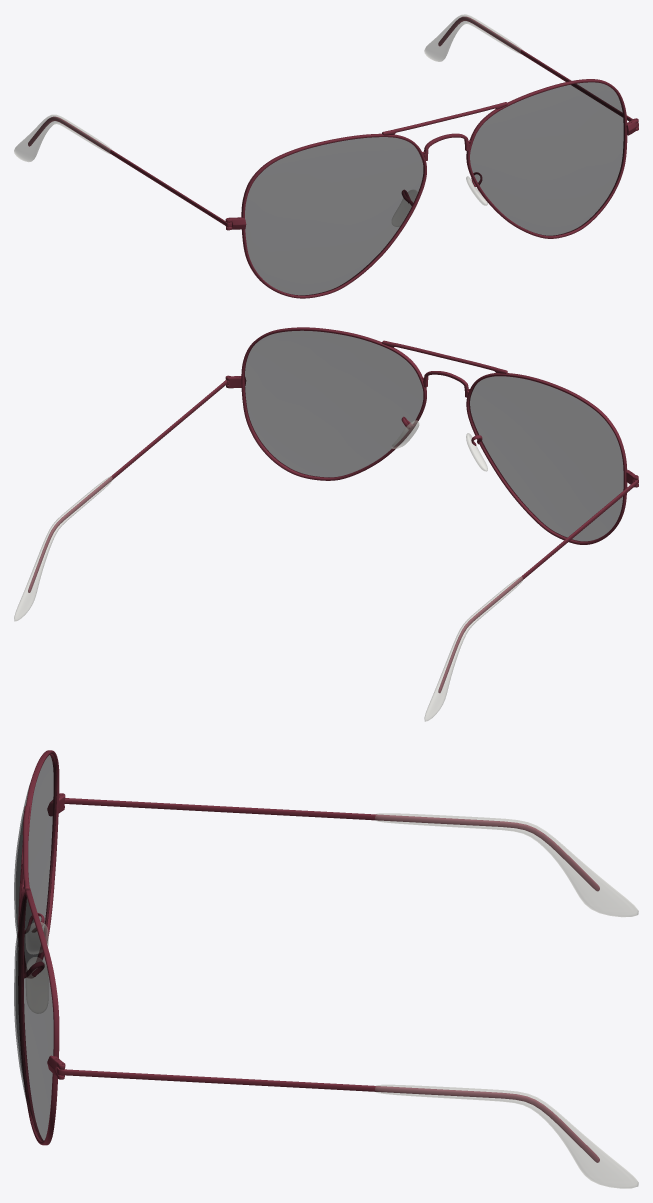
The model's file is oversize-kare-bordo.glb.
The picture shows the model from 3 angles, top to bottom: view 1: azimuth 30°, elevation 25°; view 2: azimuth 150°, elevation 25°; view 3: azimuth 270°, elevation 25°; orthographic projection. The views are drawn at different scales.
Visible parts, largest first — view 1: OPTIK_PRODUCT_250; view 2: OPTIK_PRODUCT_250; view 3: OPTIK_PRODUCT_250.
Part boxes in pixels (bbox=[...]): OPTIK_PRODUCT_250: bbox=[14, 14, 638, 298]; OPTIK_PRODUCT_250: bbox=[14, 327, 638, 721]; OPTIK_PRODUCT_250: bbox=[14, 750, 638, 1188].
Size of the model in its own units: 0.215 by 0.076 by 0.2062.
